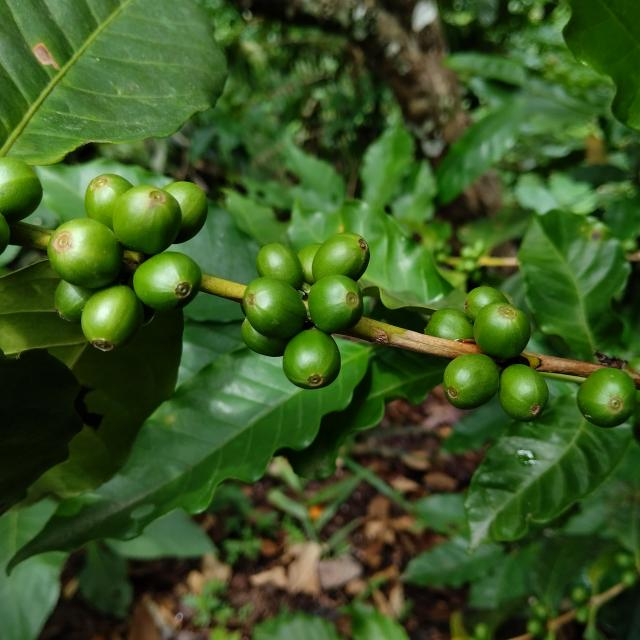green: (46, 218, 123, 289), (112, 185, 181, 254), (80, 285, 143, 352), (132, 252, 201, 311), (242, 277, 307, 339), (282, 329, 341, 390), (578, 368, 637, 428), (474, 302, 532, 359), (308, 275, 364, 334), (444, 354, 500, 410), (499, 364, 550, 422), (162, 181, 208, 244), (312, 232, 370, 281), (0, 157, 42, 223), (84, 173, 132, 229), (256, 243, 304, 290), (241, 318, 290, 357), (54, 280, 95, 323), (465, 286, 509, 322), (425, 309, 474, 340), (298, 243, 322, 285)
